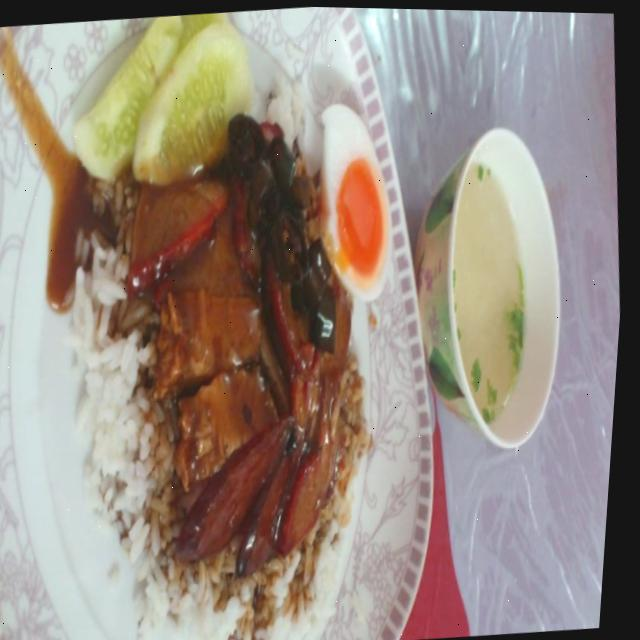猪肉菜式: (0, 24, 454, 640)
